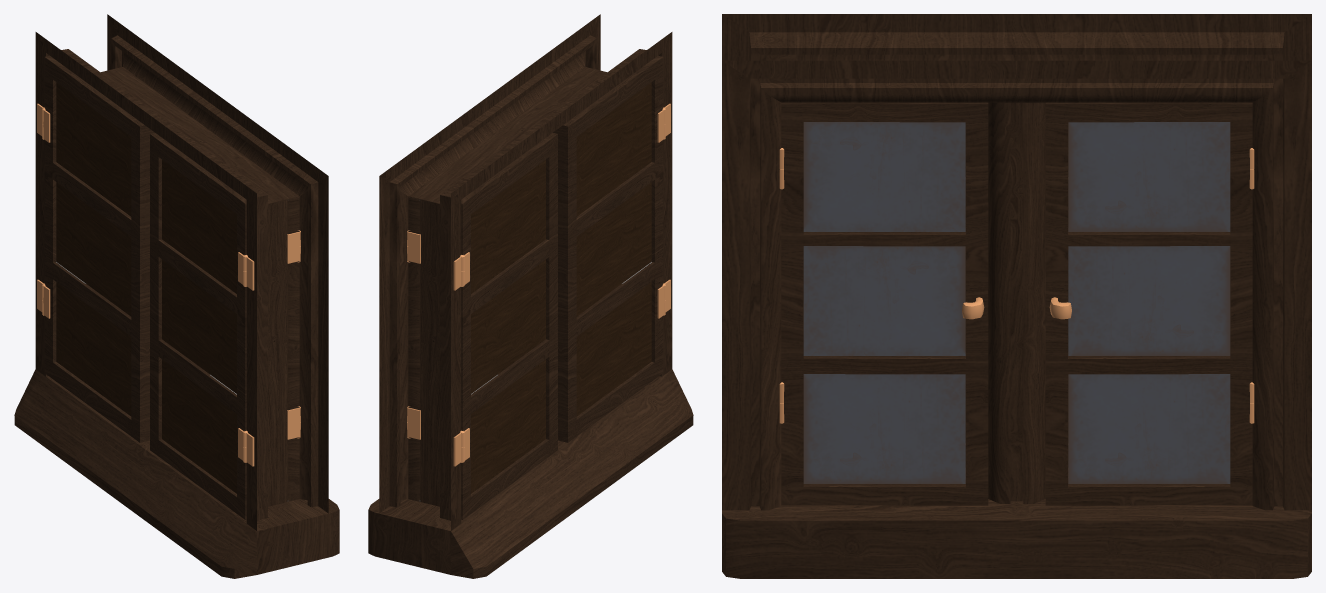
Rendered from SM_Windows.fbx.
The picture shows the model from 3 angles, left to right: view 1: azimuth 30°, elevation 25°; view 2: azimuth 150°, elevation 25°; view 3: azimuth 270°, elevation 25°; orthographic projection. The views are drawn at different scales.
Visible parts, largest first — view 1: Window_Frame.001, Window_OutsideDoors.003, Window_OutsideDoors.002, Window_Glass.003, Window_Hinges.001; view 2: Window_Frame.001, Window_OutsideDoors.002, Window_OutsideDoors.003, Window_Glass.002, Window_Hinges.001; view 3: Window_Frame.001, Window_Glass.002, Window_Glass.003, Window_Hinges.001.
Part boxes in pixels (x1,y1,x2,y2): Window_Frame.001: (14, 14, 339, 578); Window_OutsideDoors.003: (43, 55, 154, 442); Window_OutsideDoors.002: (150, 133, 246, 519); Window_Glass.003: (287, 197, 300, 501); Window_Hinges.001: (37, 103, 300, 466); Window_Frame.001: (368, 14, 693, 578); Window_OutsideDoors.002: (553, 55, 664, 442); Window_OutsideDoors.003: (461, 133, 557, 519); Window_Glass.002: (407, 197, 420, 501); Window_Hinges.001: (407, 103, 670, 466); Window_Frame.001: (722, 14, 1311, 578); Window_Glass.002: (1045, 102, 1252, 505); Window_Glass.003: (781, 102, 988, 505); Window_Hinges.001: (779, 148, 1254, 423).
Size of the model in its own units: 39.13 by 123 by 130.
